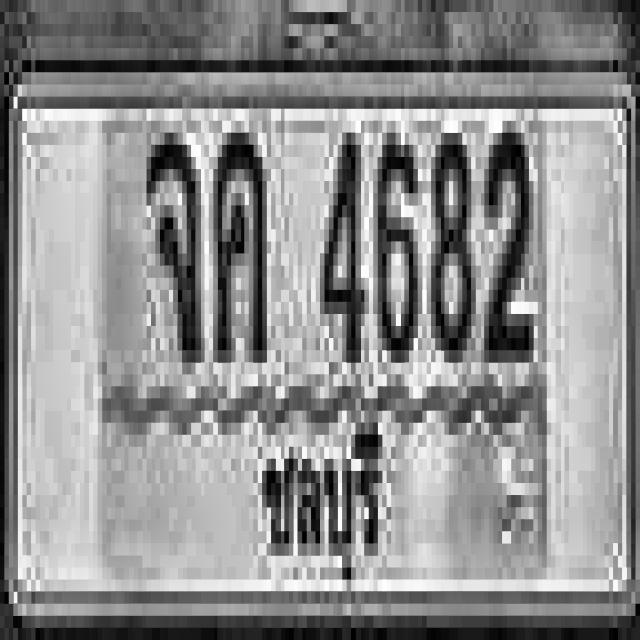license-plate: (8, 74, 640, 629)
